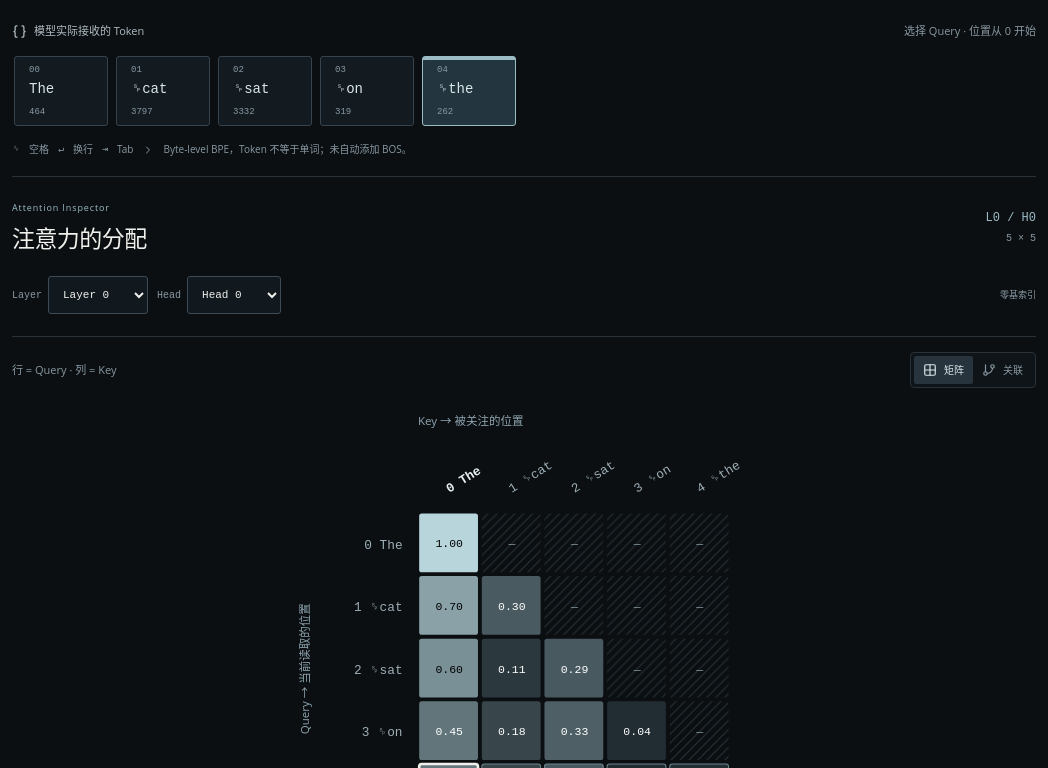
it: links token selection to predictions and attention
Click the button with aria-label "选择 Token 1: ␠cat" at (163, 91), box [116,56,210,126]
(page scrolled)
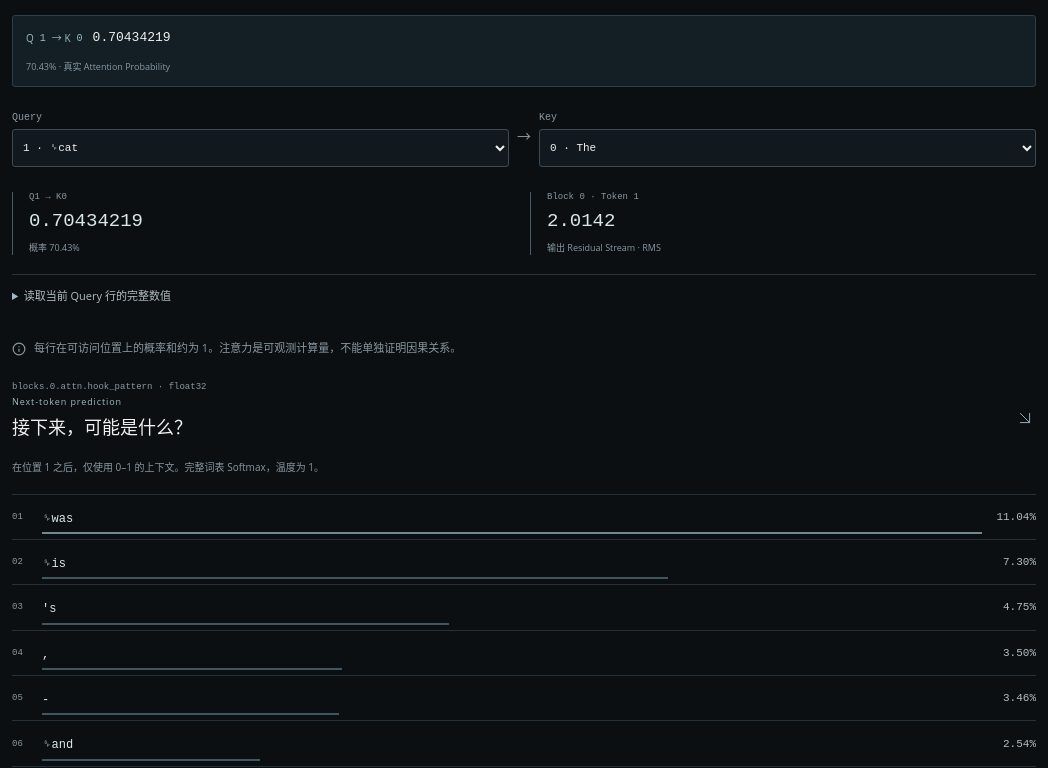
expect the text "blocks.0.attn.hook_pattern · float32" is shown: met, box [12,382,206,392]
expect the dropdown named "选择 Query Token" shows "1 · ␠cat": met, box [12,129,509,167]
expect the text "在位置 1 之后，仅使用 0–1 的上下文。完整词表 Softmax，温度为 1。" is shown: met, box [12,460,324,474]
